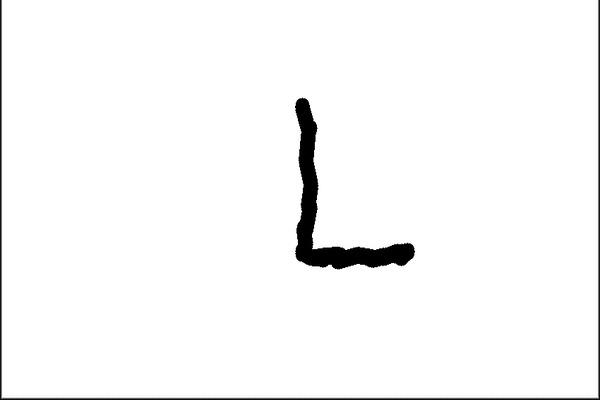L: (285, 88, 421, 274)
